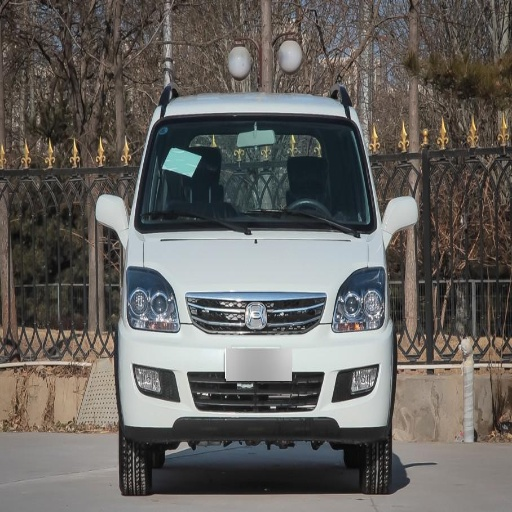front_bumper: (122, 288, 393, 441)
front_right_light: (123, 267, 181, 330)
hood: (139, 233, 368, 293)
